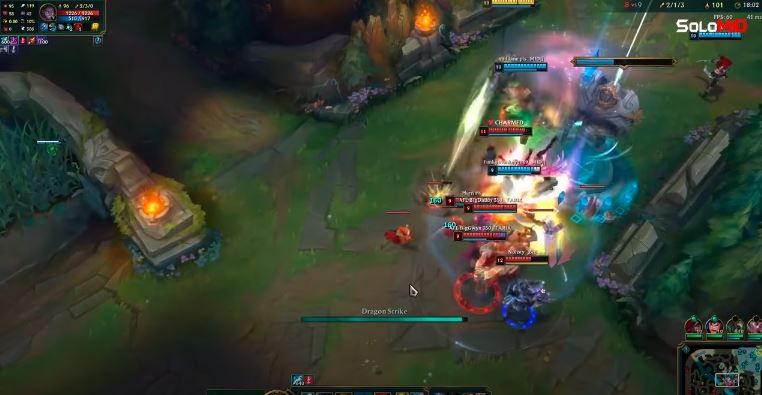bar: (491, 60, 551, 74), (452, 229, 509, 243), (476, 125, 535, 138), (485, 164, 543, 177), (494, 253, 550, 266), (443, 195, 501, 207), (686, 30, 742, 42), (461, 203, 518, 214), (481, 1, 534, 8)
